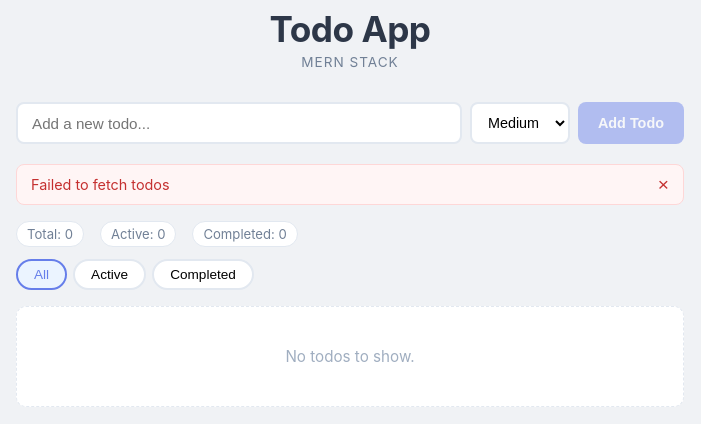
Test: App › dismisses error banner when × is clicked
Expected: the message "Failed to fetch todos ×" is shown, [16,164,684,205]
Step 1. Click the button "×" → coordinates (663, 185), box [658,175,669,194]
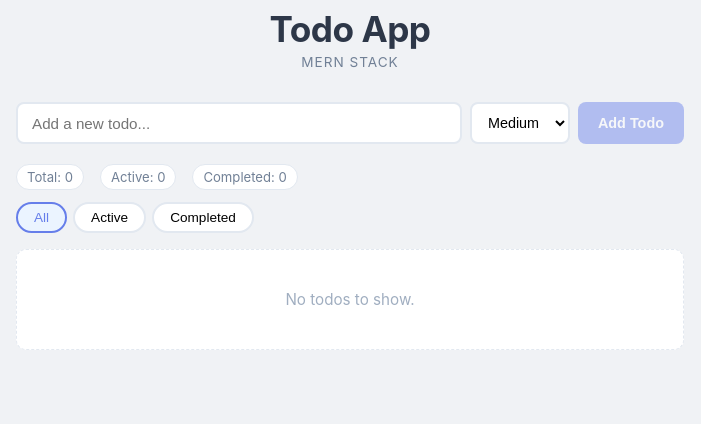
Expected: the message "Failed to fetch todos ×" is gone
